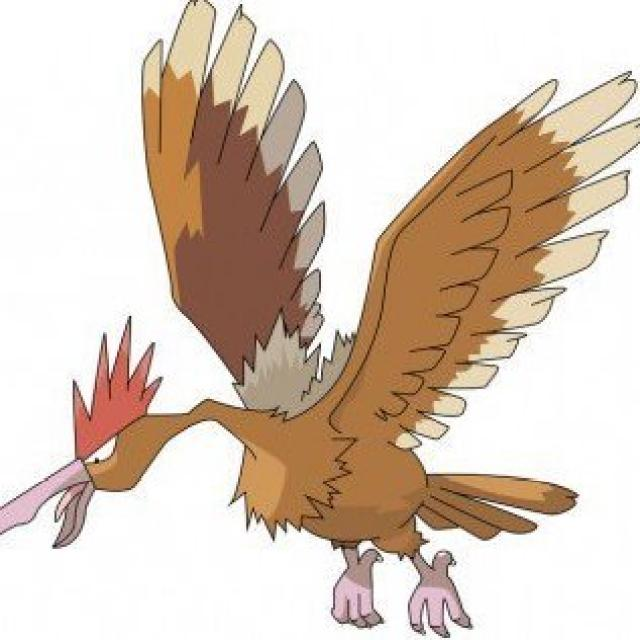Fearow: (39, 203, 509, 631)
